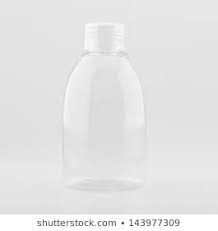available: (59, 20, 153, 200)
